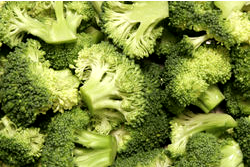broccoli: (73, 42, 151, 128)
